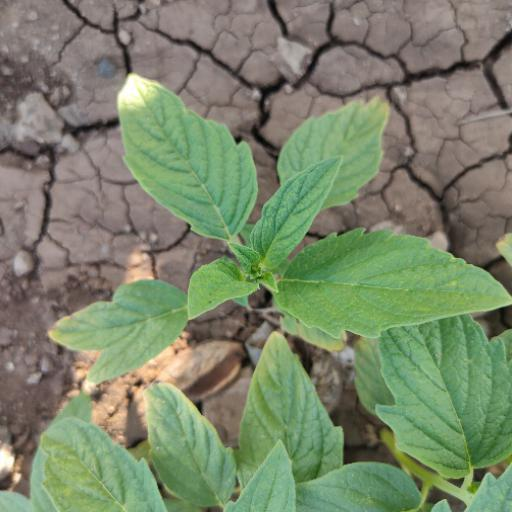crop: (68, 79, 512, 392)
